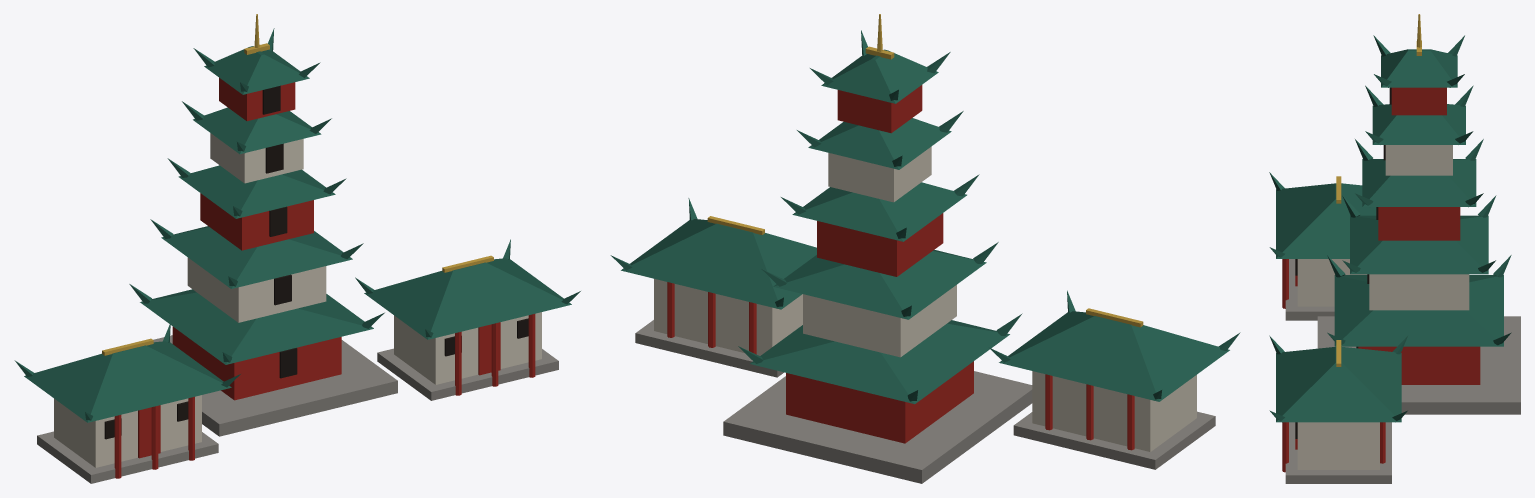
The model's file is dragon_court.glb.
3 views of the same model, side by side, from view 1: azimuth 30°, elevation 25°; view 2: azimuth 150°, elevation 25°; view 3: azimuth 270°, elevation 25° (orthographic). The views are drawn at different scales.
Parts seen in each view (by area): view 1: dragon_court; view 2: dragon_court; view 3: dragon_court.
Boxes of the visible parts, box(x1,y1,x2,y2) form: dragon_court: box(14, 14, 580, 483); dragon_court: box(610, 14, 1240, 483); dragon_court: box(1269, 14, 1520, 483).
Size of the model in its own units: 7.01 by 4.89 by 3.12.
